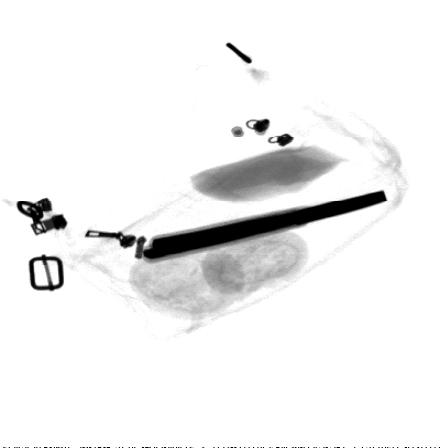Pliers: (140, 189, 389, 264)
